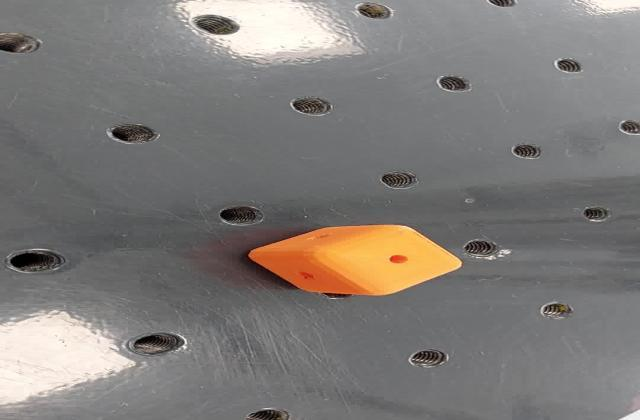cube: (240, 222, 468, 299)
